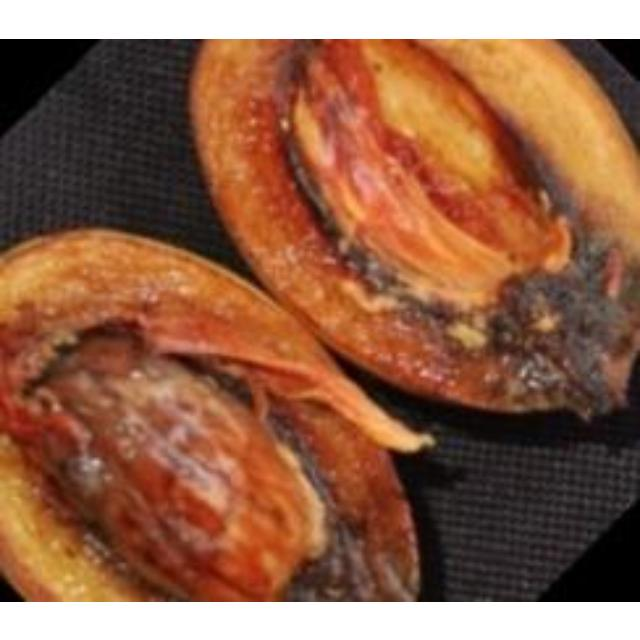damaged: (186, 38, 637, 424), (0, 229, 435, 599)
